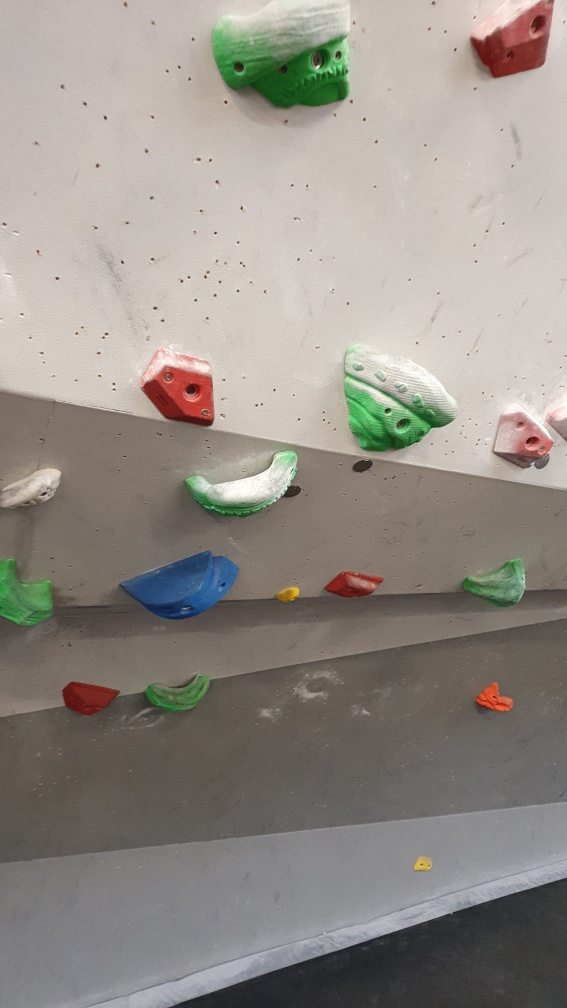Crimp: (458, 1, 563, 78), (138, 343, 217, 431), (486, 405, 555, 468), (324, 565, 387, 600)
Hand Start: (346, 454, 376, 478), (533, 450, 553, 475), (283, 482, 305, 502)
Jug: (206, 1, 365, 111), (340, 337, 462, 460), (178, 440, 302, 522), (453, 549, 538, 615), (1, 556, 62, 630), (141, 669, 215, 716), (1, 465, 69, 514)
Pinch: (117, 548, 242, 624)
